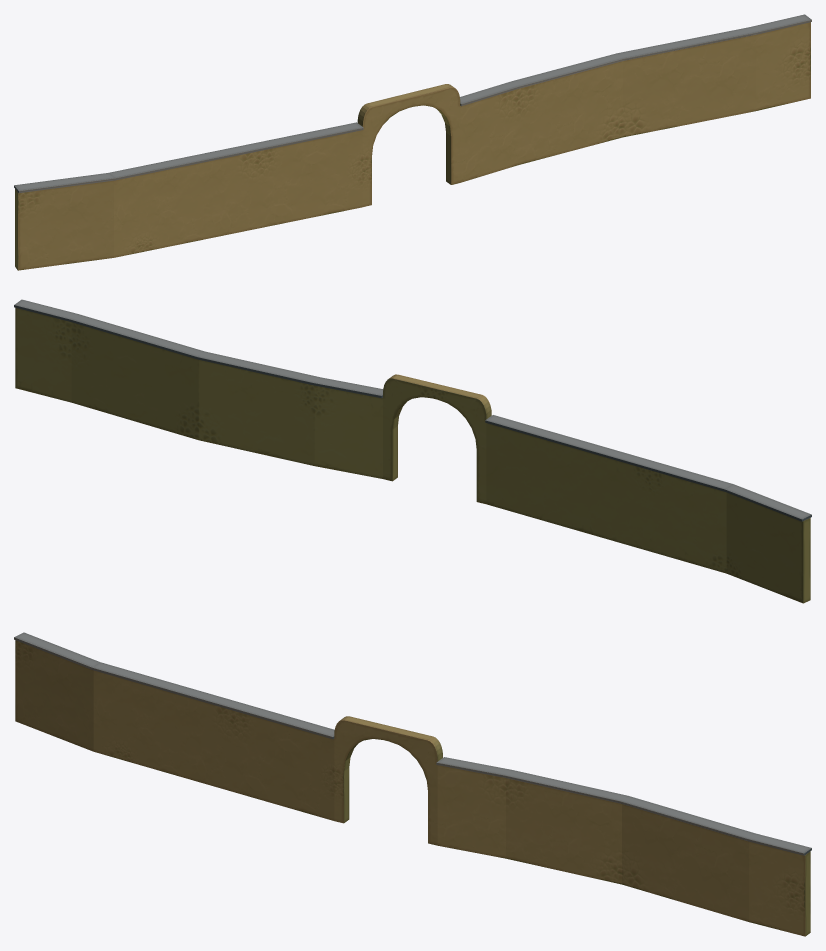
The model's file is zone2Entrance new wall.fbx.
3 renders of one model, top to bottom at view 1: azimuth 30°, elevation 25°; view 2: azimuth 150°, elevation 25°; view 3: azimuth 330°, elevation 25°, orthographic. The views are drawn at different scales.
Parts seen in each view (by area): view 1: Wall_To_Zone2_LOW, Brick part; view 2: Wall_To_Zone2_LOW, Brick part; view 3: Wall_To_Zone2_LOW, Brick part.
Boxes of the visible parts, x1,y1,x2,y2 form: Wall_To_Zone2_LOW: (15, 22, 810, 270); Brick part: (14, 14, 811, 193); Wall_To_Zone2_LOW: (15, 307, 810, 603); Brick part: (14, 299, 811, 521); Wall_To_Zone2_LOW: (15, 640, 810, 936); Brick part: (14, 632, 811, 855).
Bounding box in the file's own units: 4130 × 501 × 272.
Materials: 2 (2 with a texture image).
